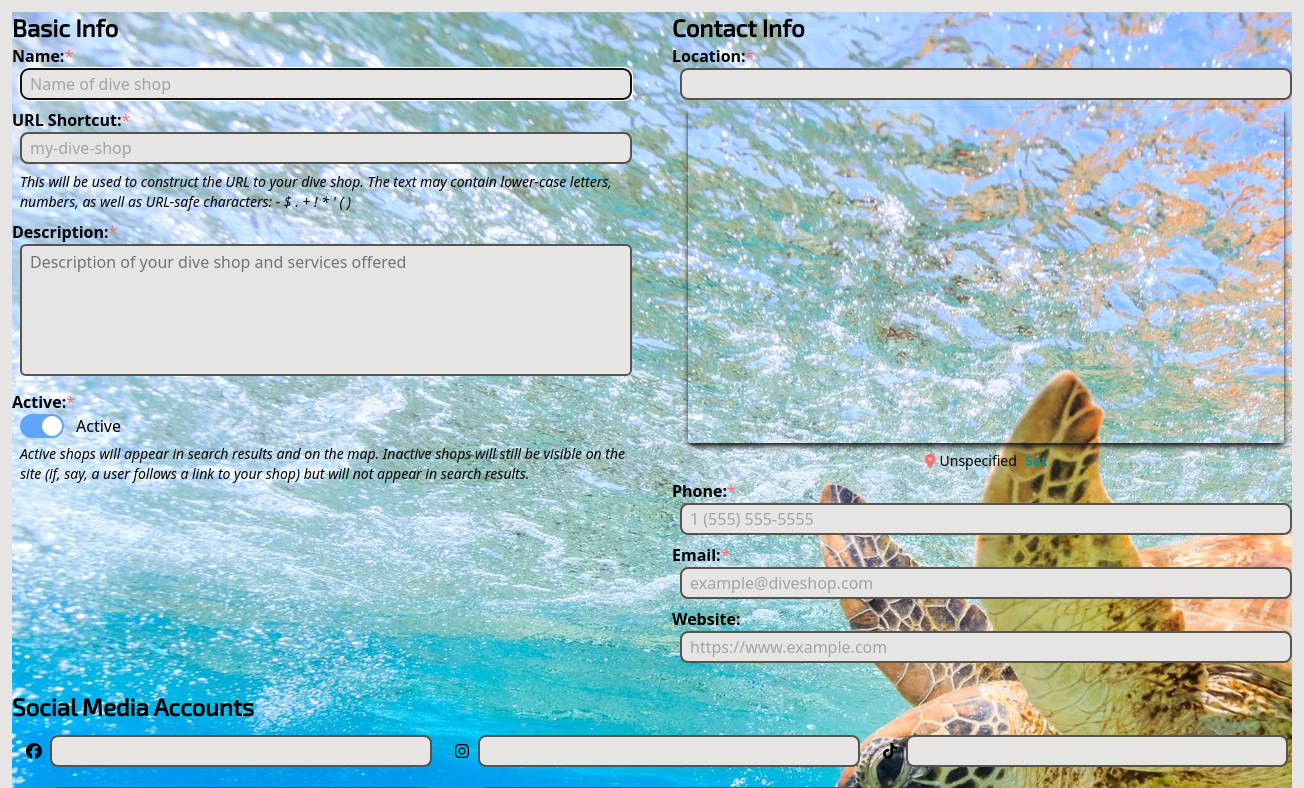
Test: EditOperatorInfo component › will automatically generate a slug when the name changes
The image size is (1304, 788).
Type "New Name New Shop #33" into the field with id "operator-name" at (326, 84), box [20, 68, 632, 100]
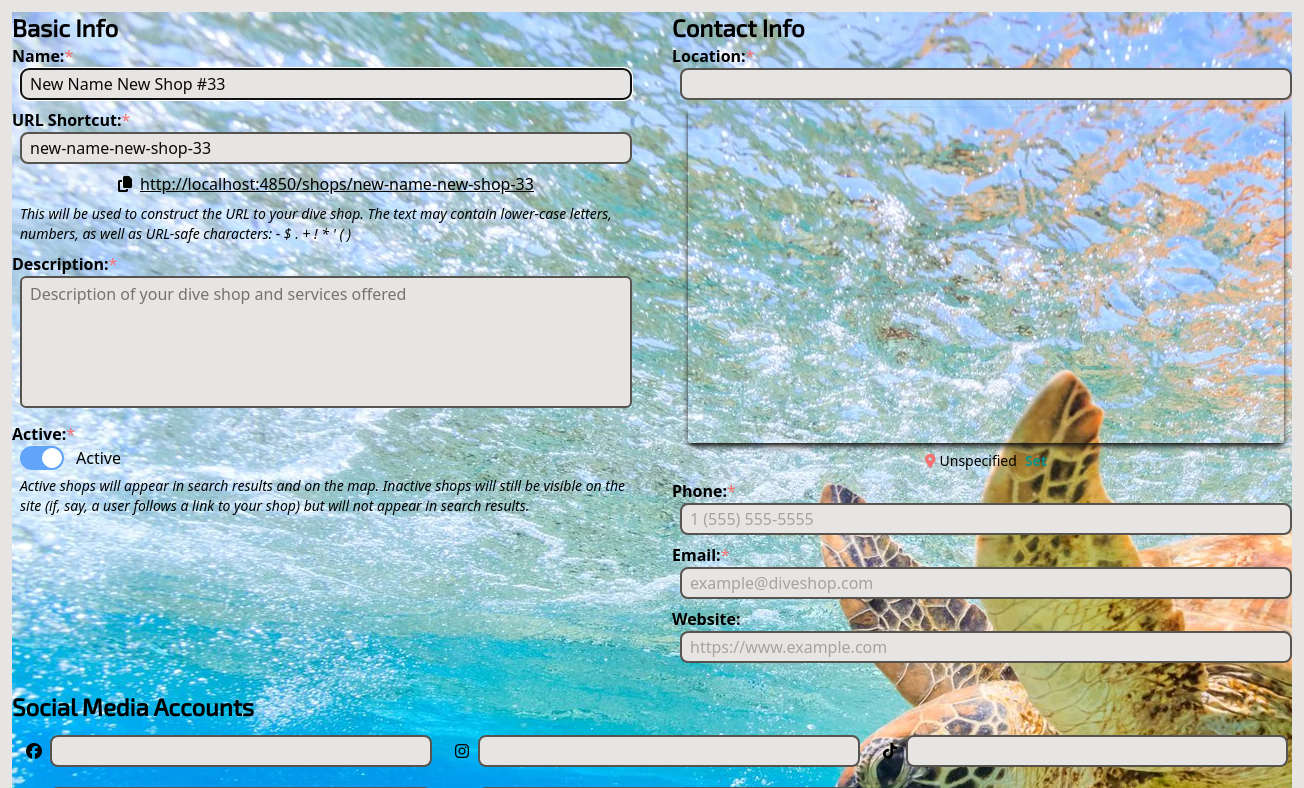
Now the field with id "operator-slug" holds "new-name-new-shop-33", box [20, 132, 632, 164]
